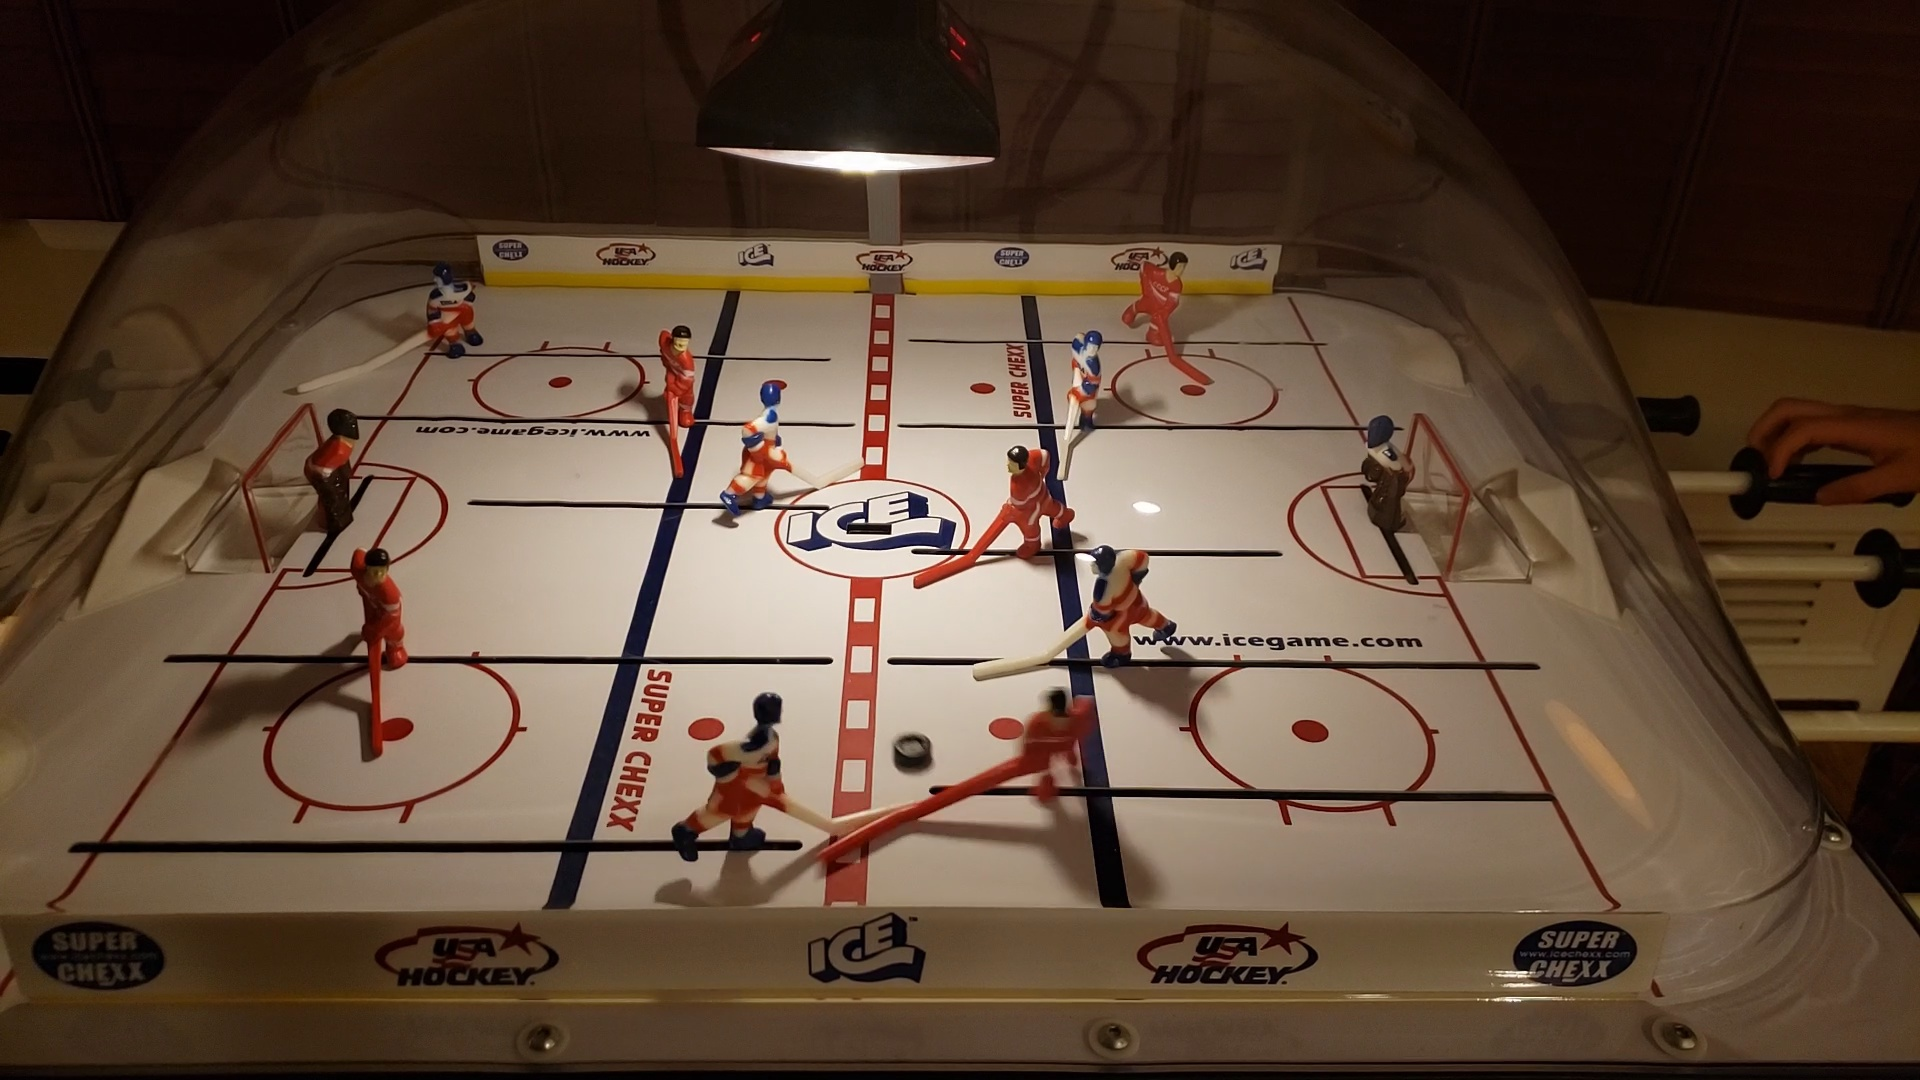puck: (890, 731, 932, 771)
